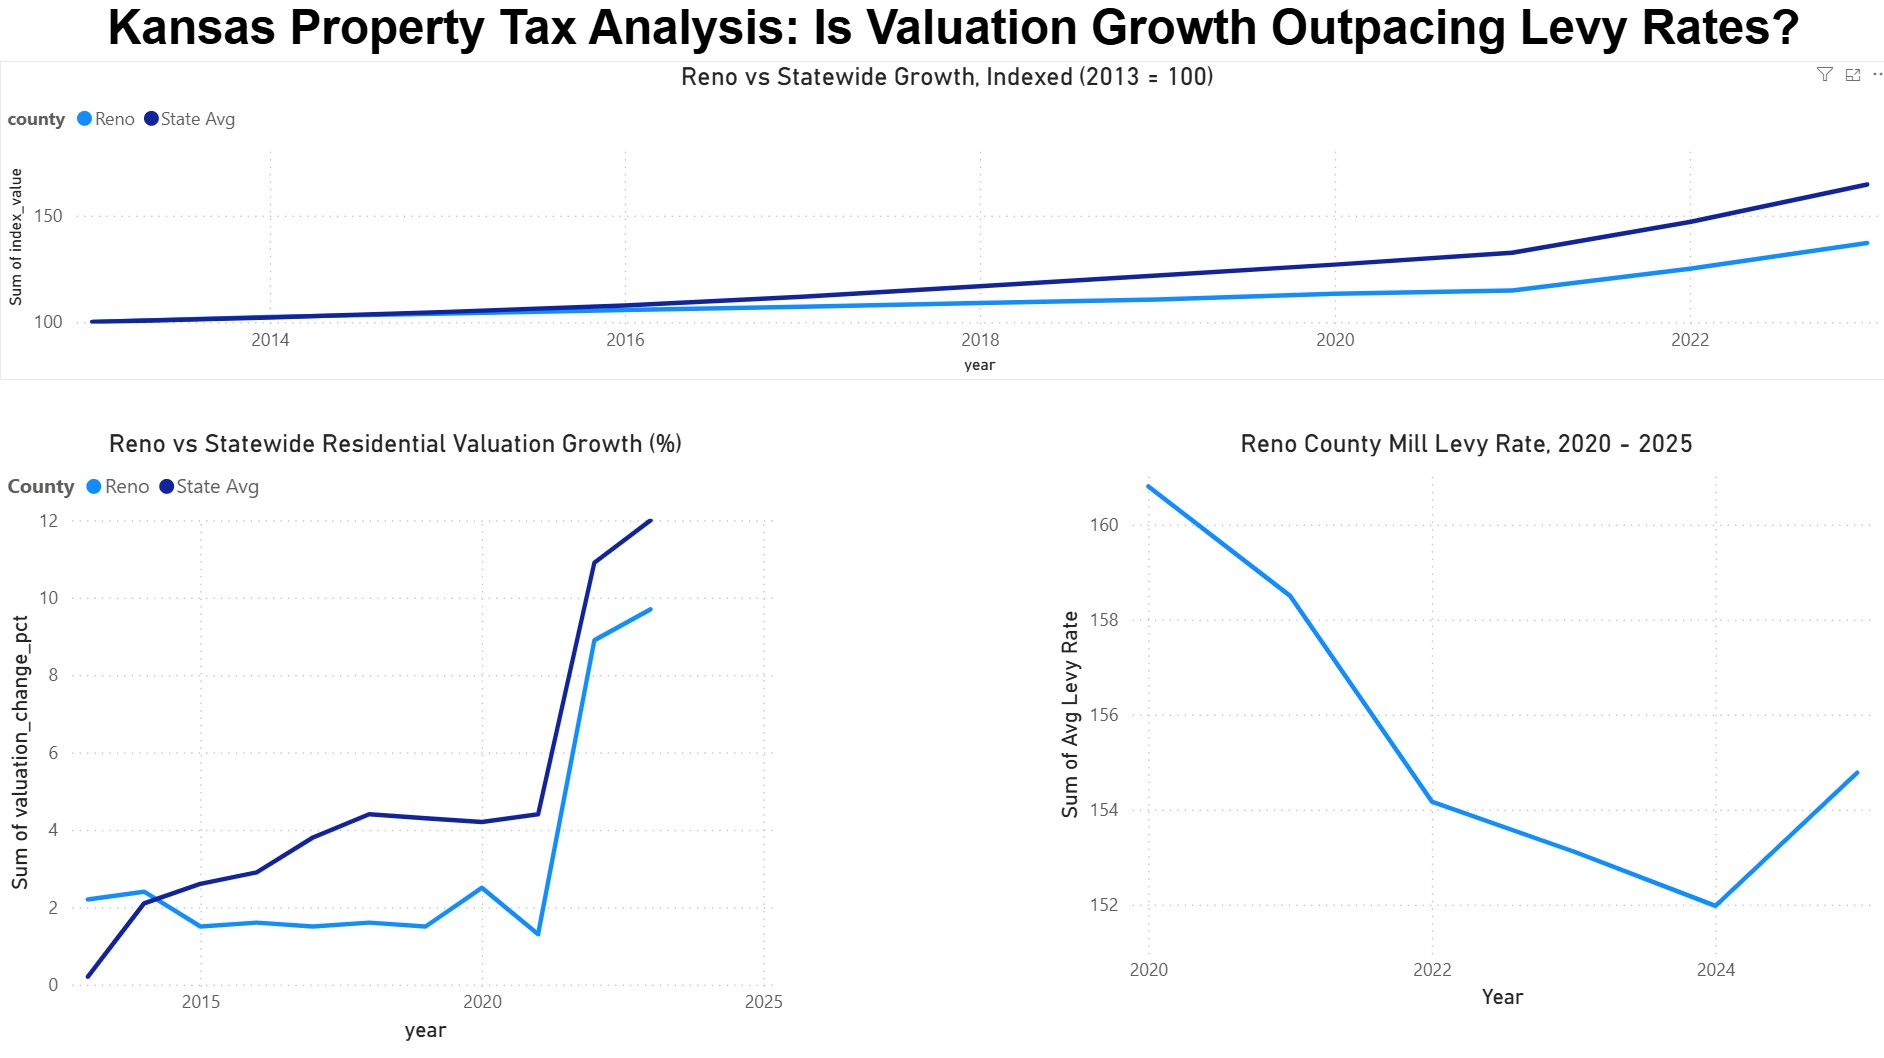

What the dashboard file says about the page in this screenshot:
{"tool":"powerbi","page":{"name":"Page 1","canvas":[1280,720],"ordinal":0},"visuals":[{"type":"lineChart","title":"Reno vs Statewide Residential Valuation Growth (%)","fields":{"Category":["reno_valuation_vs_state.year"],"Y":["Sum(reno_valuation_vs_state.valuation_change_pct)"],"Series":["reno_valuation_vs_state.County"]},"box":[6.7,292.4,531.1,417.5],"z":0},{"type":"lineChart","title":"Reno County Mill Levy Rate, 2020 - 2025","fields":{"Y":["Sum(County Mill Levies.Avg Levy Rate)"],"Category":["County Mill Levies.Year"]},"box":[712.6,292.4,560.7,395.3],"z":1000},{"type":"textbox","box":[7,0,1273,69.8],"z":2000},{"type":"lineChart","title":"Reno vs Statewide Growth, Indexed (2013 = 100)","fields":{"Category":["reno_valuation_index.year"],"Y":["Sum(reno_valuation_index.index_value)"],"Series":["reno_valuation_index.county"]},"box":[6.7,45.7,1273.3,214.5],"z":2001}]}

Visuals, with their boxes in screenshot pixels (x1, y1, x2, y2), scaled from the page's 1280x720 canvas onto the 1884x1058 screenshot:
"Reno vs Statewide Residential Valuation Growth (%)" lineChart: box=[10, 430, 792, 1043]
"Reno County Mill Levy Rate, 2020 - 2025" lineChart: box=[1049, 430, 1874, 1011]
textbox: box=[10, 0, 1883, 103]
"Reno vs Statewide Growth, Indexed (2013 = 100)" lineChart: box=[10, 67, 1883, 382]
